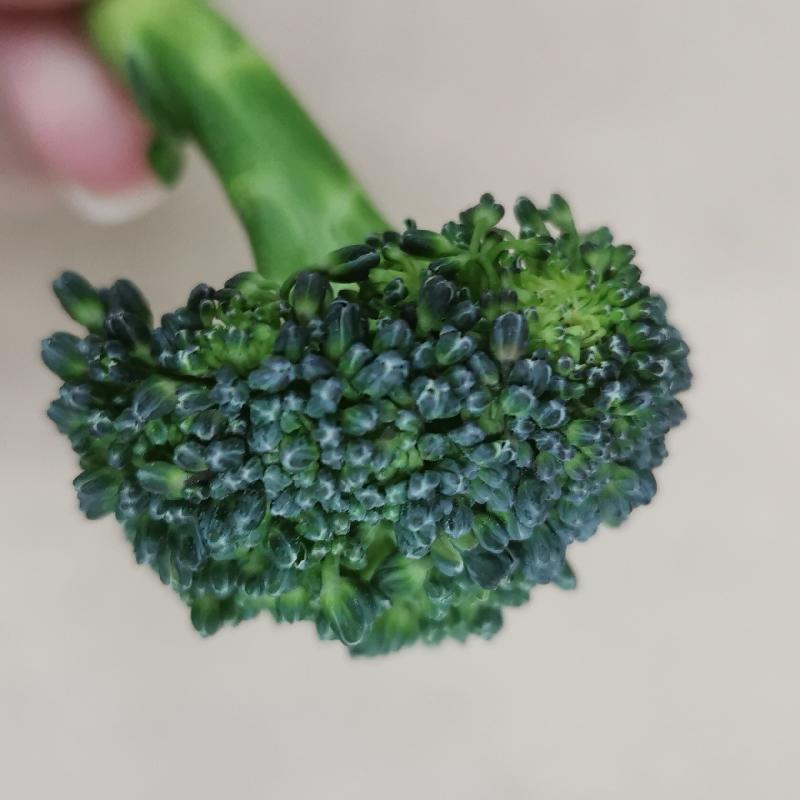broccoli: (40, 13, 693, 660)
